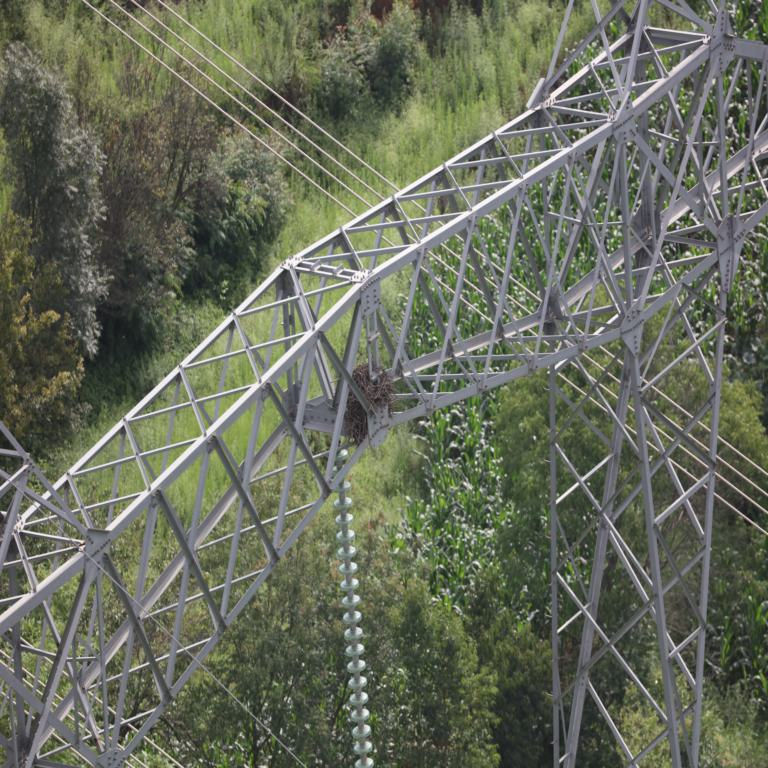nest: (350, 370, 388, 437)
